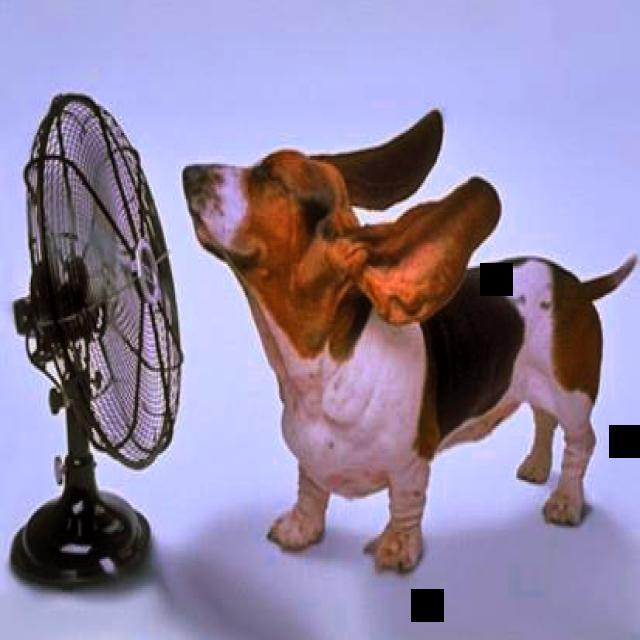adult_dog: (183, 106, 640, 576)
